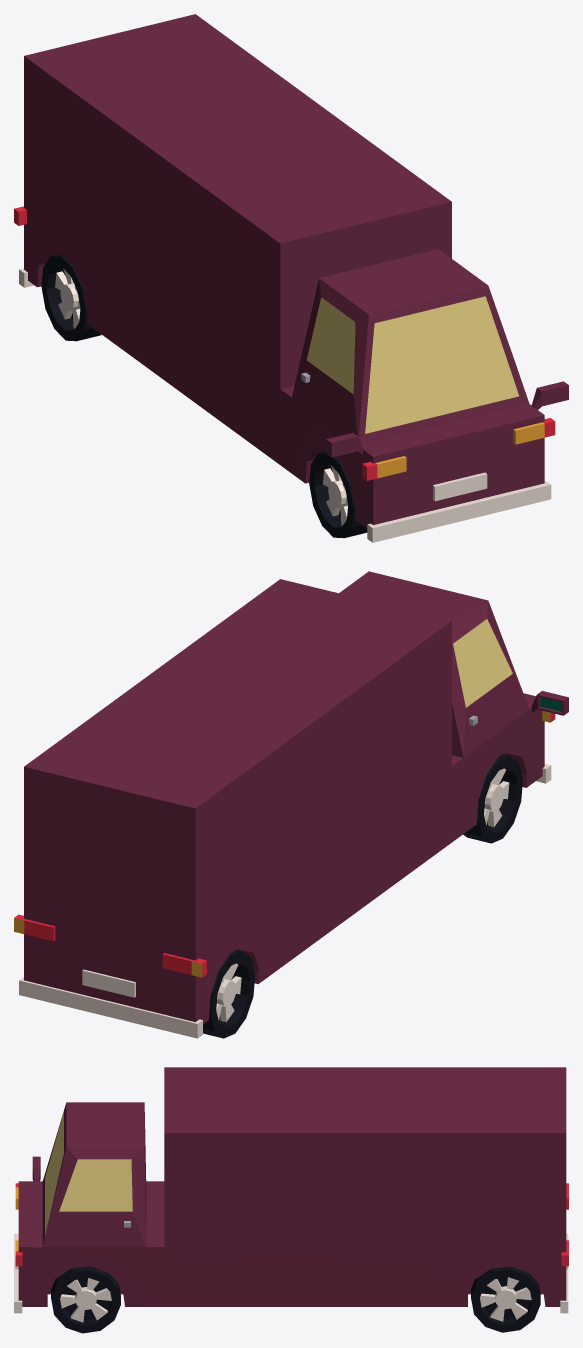
Rendered from camion morado.fbx.
3 renders of one model, top to bottom at view 1: azimuth 30°, elevation 25°; view 2: azimuth 150°, elevation 25°; view 3: azimuth 270°, elevation 25°, orthographic. The views are drawn at different scales.
Visible parts, largest first — view 1: Cube.001; view 2: Cube.001; view 3: Cube.001.
Part boxes in pixels (<box>): Cube.001: <box>14,14,568,542</box>; Cube.001: <box>14,571,568,1038</box>; Cube.001: <box>14,1067,568,1333</box>.
Size of the model in its own units: 277 by 285 by 715.
